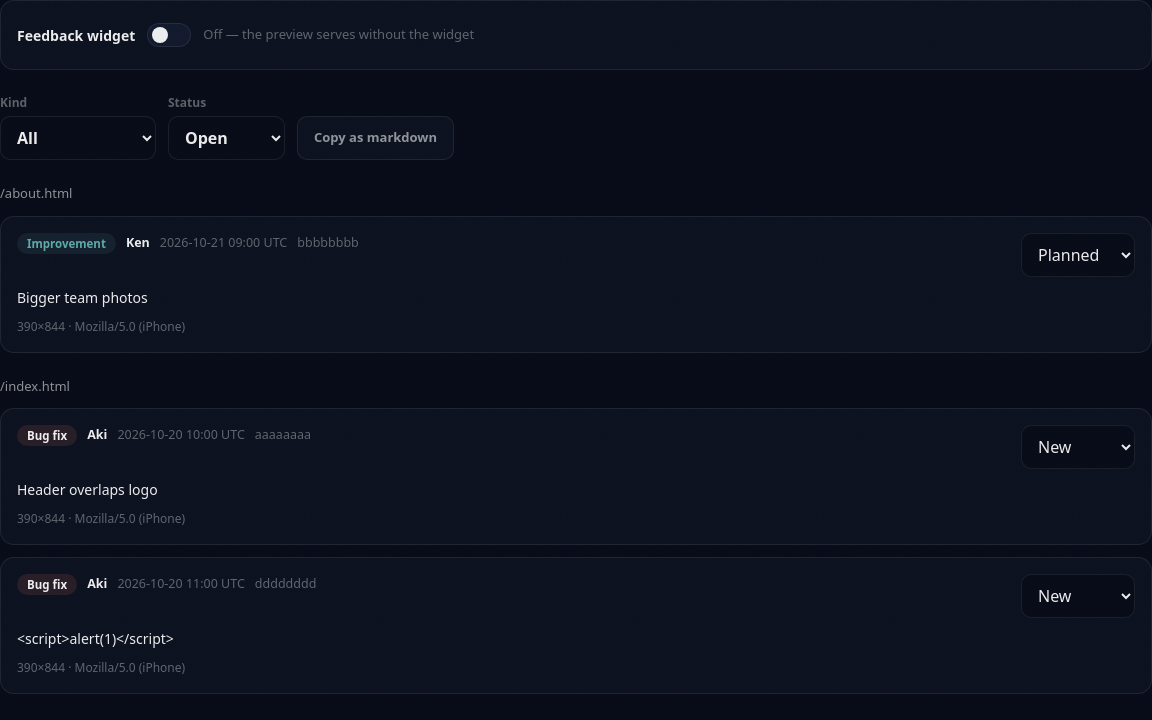
Scenario: AdminPreviewFeedback › default filter hides done items; switching to All shows them
Expected: the text "Header overlaps logo" is shown, [17, 480, 158, 499]
Expected: the text "Bigger team photos" is shown, [17, 288, 148, 306]
Select "All" in the dropdown named "Filter by status". click: (226, 138)
box: [168, 116, 285, 160]
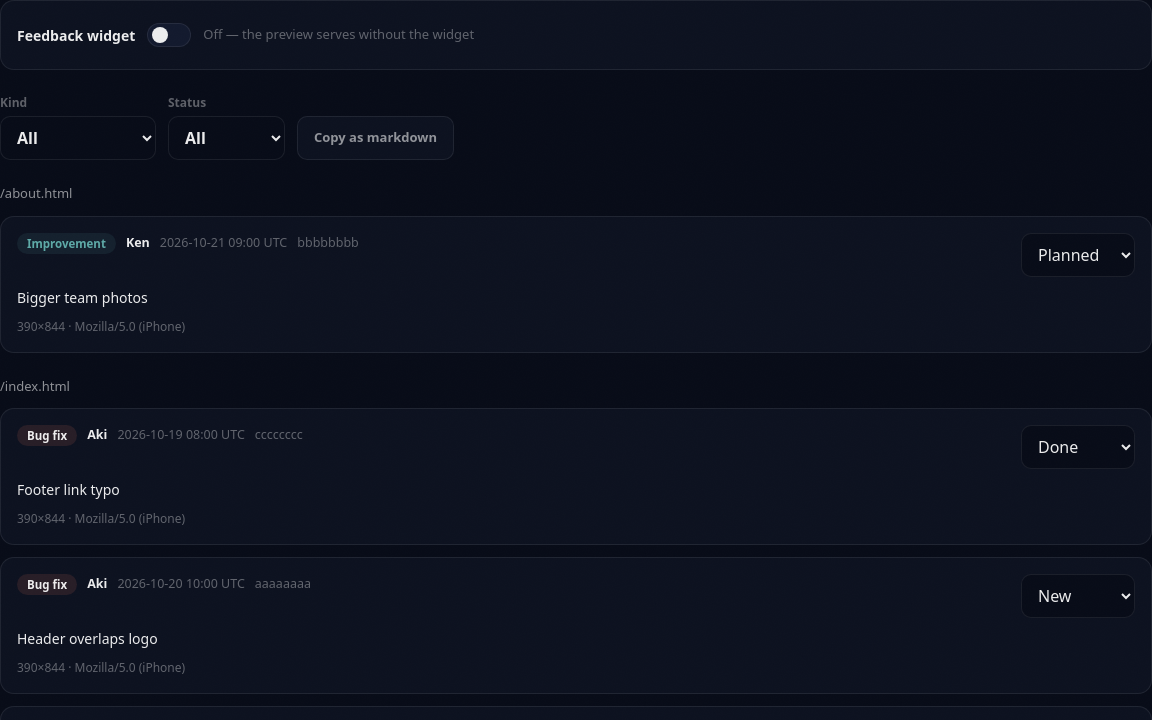
Expected: the text "Footer link typo" is shown, [17, 480, 120, 499]
